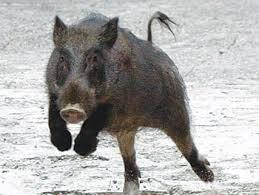Hog: (42, 9, 215, 195)
